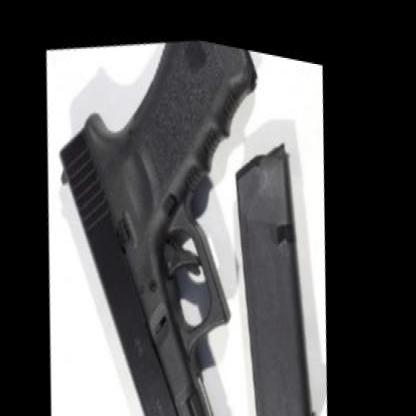pistol: (24, 9, 318, 413)
